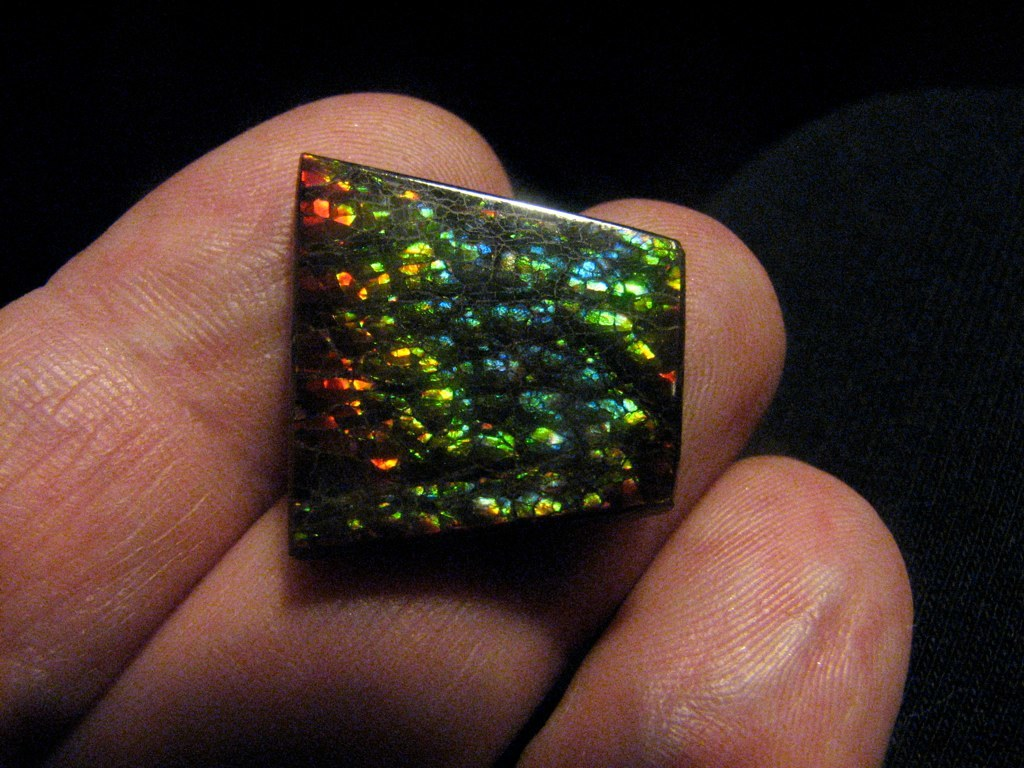Human_hand: (0, 92, 913, 766)
